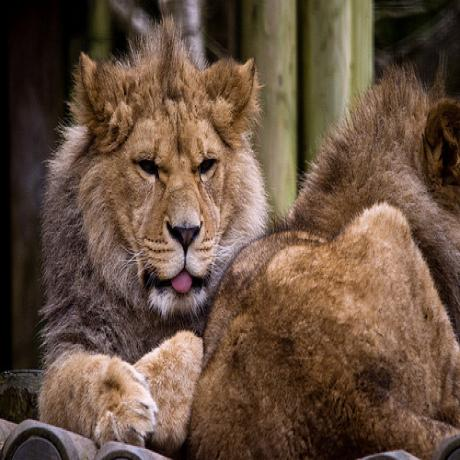Lion: (33, 32, 268, 447)
